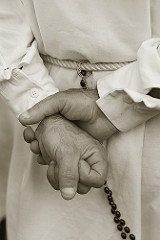fist: (33, 129, 111, 201)
